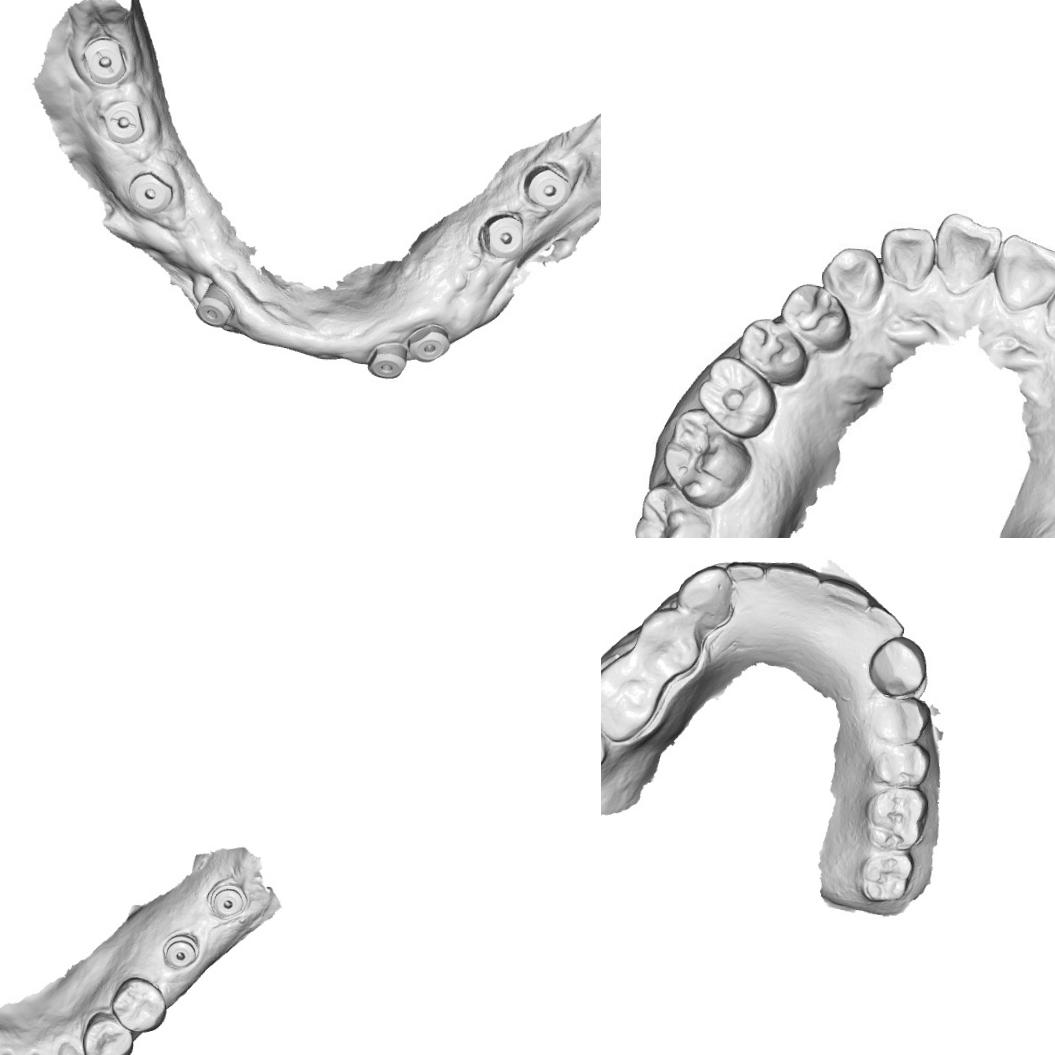canine: (818, 245, 884, 314), (865, 632, 929, 698), (676, 559, 734, 630), (52, 1038, 101, 1055)
implant: (118, 163, 176, 222), (520, 158, 570, 214), (474, 207, 526, 259), (190, 286, 236, 330), (408, 322, 452, 364), (364, 339, 408, 380), (204, 881, 247, 920), (159, 930, 202, 969)
implant_minus: (92, 92, 149, 150), (78, 30, 130, 88)
incisor: (933, 209, 1002, 294), (986, 233, 1055, 313), (878, 222, 936, 291), (763, 548, 820, 618), (816, 563, 869, 629), (861, 595, 904, 649), (719, 550, 762, 603), (1041, 274, 1055, 340)
molar: (657, 408, 752, 510), (696, 354, 779, 442), (601, 653, 661, 745), (631, 479, 717, 538), (860, 784, 930, 853), (856, 848, 914, 904)
premolar: (732, 312, 810, 386), (778, 280, 853, 353), (633, 604, 704, 679), (868, 690, 933, 750), (108, 975, 168, 1034), (868, 738, 932, 790), (79, 1008, 136, 1055)
